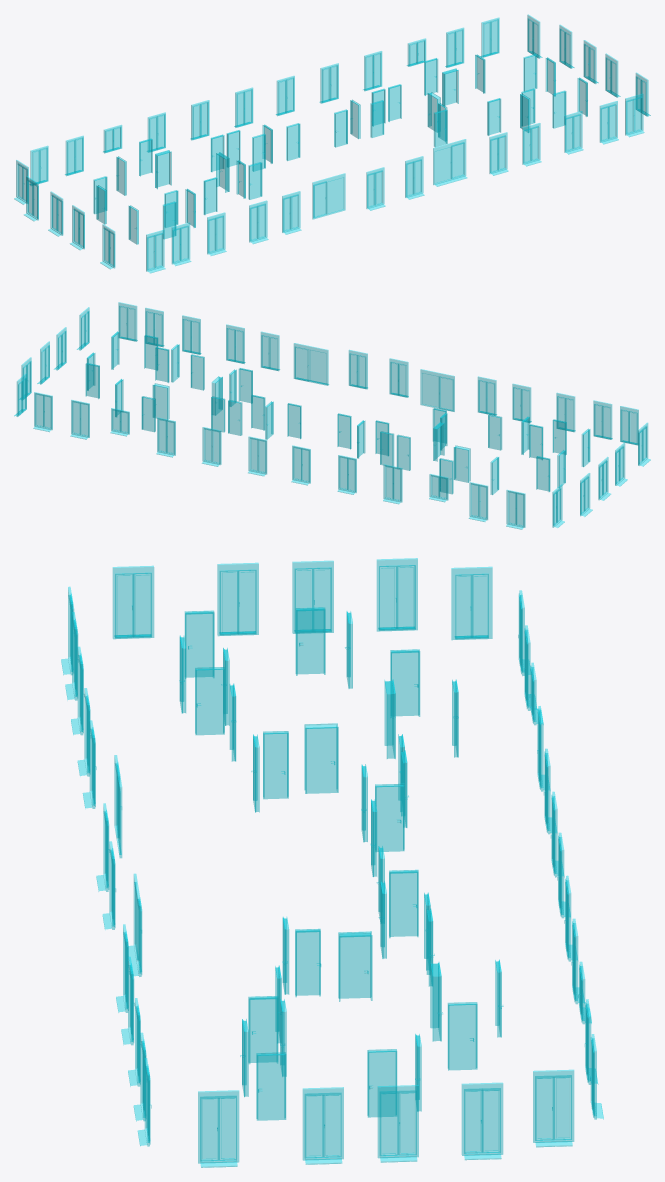
Rendered from Level_03_openings.glb.
The picture shows the model from 3 angles, top to bottom: view 1: azimuth 30°, elevation 25°; view 2: azimuth 150°, elevation 25°; view 3: azimuth 270°, elevation 25°; orthographic projection. The views are drawn at different scales.
Parts seen in each view (by area): view 1: world; view 2: world; view 3: world.
Part boxes in pixels (bbox=[...]): world: bbox=[14, 14, 650, 273]; world: bbox=[14, 302, 650, 529]; world: bbox=[61, 558, 603, 1167].
Bounding box in the file's own units: 40.19 × 2.52 × 17.07.
